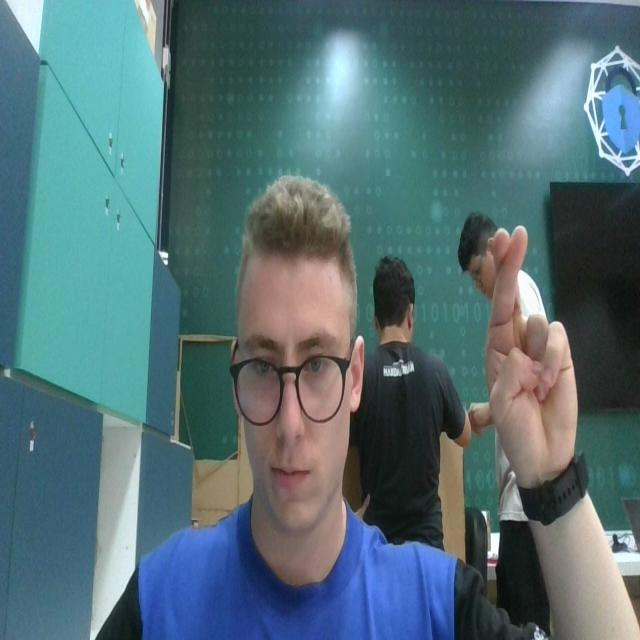R: (481, 215, 580, 482)
